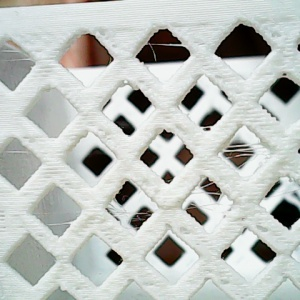3dpstringing: (186, 180, 236, 213), (222, 142, 271, 172), (106, 208, 154, 229), (144, 42, 192, 62), (261, 182, 298, 201), (3, 47, 37, 67), (46, 218, 81, 230), (3, 146, 32, 158), (203, 123, 215, 134)
3dpunderextrusion: (176, 224, 213, 249), (238, 216, 273, 238)
